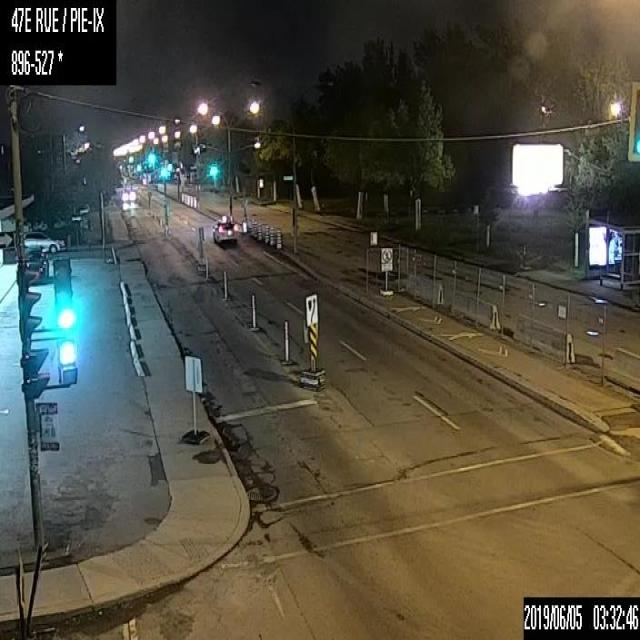construction: (250, 293, 255, 327), (284, 320, 288, 360), (276, 228, 282, 249), (222, 268, 226, 297), (257, 222, 263, 241), (264, 223, 270, 242), (269, 226, 275, 244), (251, 218, 257, 236), (205, 252, 208, 276)
vehicle: (15, 248, 48, 283), (24, 228, 64, 255), (210, 218, 240, 245), (118, 186, 136, 202)
